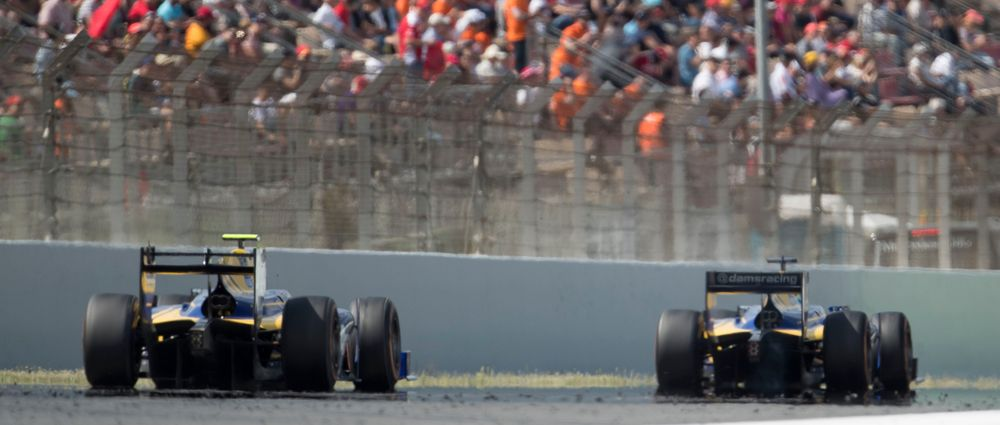race car: (80, 232, 414, 395), (650, 256, 922, 400)
